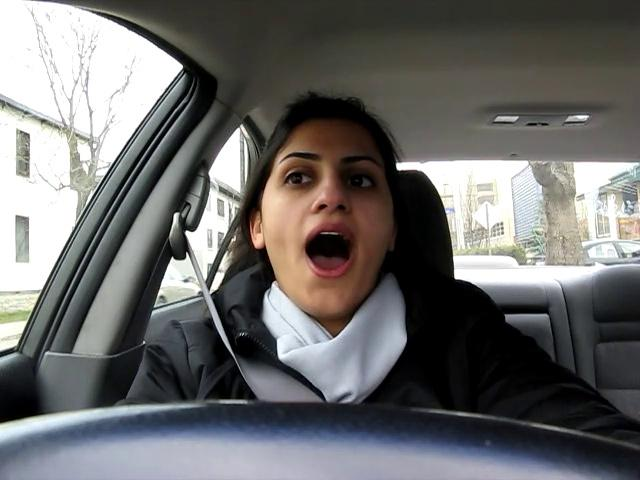open_eyeL: (271, 162, 329, 198)
open_eyeR: (331, 165, 396, 200)
yawn: (281, 223, 371, 279)
